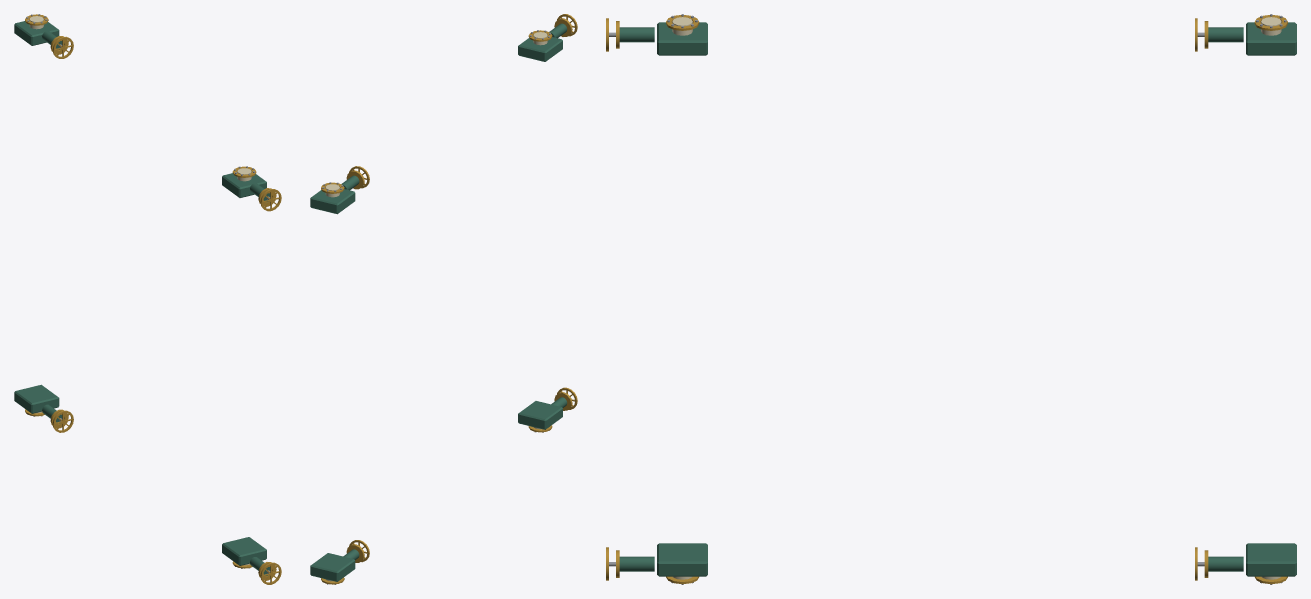
Rendered from tank4200_valves.obj.
The picture shows the model from 3 angles, left to right: view 1: azimuth 30°, elevation 25°; view 2: azimuth 150°, elevation 25°; view 3: azimuth 270°, elevation 25°; orthographic projection. The views are drawn at different scales.
Visible parts, largest first — view 1: tank4200_valves; view 2: tank4200_valves; view 3: tank4200_valves.
Part boxes in pixels (left/top/right/bottom): tank4200_valves: left=14, top=14, right=281, bottom=584; tank4200_valves: left=310, top=14, right=577, bottom=584; tank4200_valves: left=606, top=14, right=1296, bottom=584.
Bounding box in the file's own units: 1 × 13.32 × 14.9.
